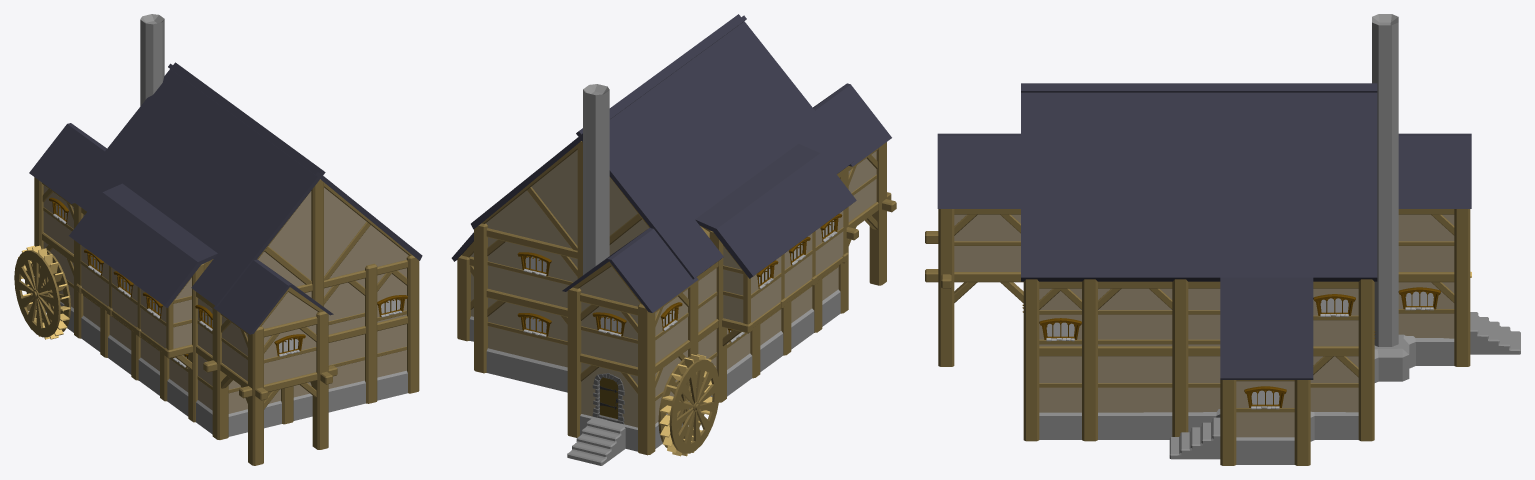
File: Tavern.fbx
The picture shows the model from 3 angles, left to right: view 1: azimuth 30°, elevation 25°; view 2: azimuth 150°, elevation 25°; view 3: azimuth 270°, elevation 25°; orthographic projection. The views are drawn at different scales.
Visible parts, largest first — view 1: polySurface3, Tavern_Frame, Tavern_Walls, Foundation, Watermill, polySurface5, polySurface4, Windows, Tavern_Roof; view 2: polySurface3, Tavern_Walls, Tavern_Frame, Foundation, Watermill, polySurface5, Windows, polySurface4, Tavern_Roof, Door2, polySurface1; view 3: Tavern_Roof, Tavern_Frame, Tavern_Walls, Foundation, polySurface6, polySurface1, Windows, polySurface3.
Boxes of the visible parts, bbox=[...] form: polySurface3: bbox=[69, 62, 325, 307]; Tavern_Frame: bbox=[34, 177, 419, 465]; Tavern_Walls: bbox=[43, 185, 408, 413]; Foundation: bbox=[43, 14, 407, 436]; Watermill: bbox=[14, 245, 70, 339]; polySurface5: bbox=[29, 123, 105, 203]; polySurface4: bbox=[213, 259, 291, 334]; Windows: bbox=[49, 197, 407, 367]; Tavern_Roof: bbox=[168, 63, 422, 260]; polySurface3: bbox=[576, 14, 856, 279]; Tavern_Walls: bbox=[470, 150, 876, 427]; Tavern_Frame: bbox=[457, 141, 896, 455]; Foundation: bbox=[469, 84, 840, 465]; Watermill: bbox=[658, 354, 719, 456]; polySurface5: bbox=[608, 228, 698, 312]; Windows: bbox=[517, 213, 842, 342]; polySurface4: bbox=[813, 83, 891, 166]; Tavern_Roof: bbox=[451, 15, 746, 261]; Door2: bbox=[600, 377, 618, 419]; polySurface1: bbox=[562, 228, 653, 291]; Tavern_Roof: bbox=[1021, 83, 1377, 379]; Tavern_Frame: bbox=[925, 209, 1470, 465]; Tavern_Walls: bbox=[954, 214, 1454, 437]; Foundation: bbox=[1039, 14, 1520, 464]; polySurface6: bbox=[937, 134, 1020, 208]; polySurface1: bbox=[1398, 133, 1471, 208]; Windows: bbox=[1022, 287, 1440, 409]; polySurface3: bbox=[1021, 86, 1377, 92].
Size of the model in its own units: 72.79 by 75.56 by 112.
